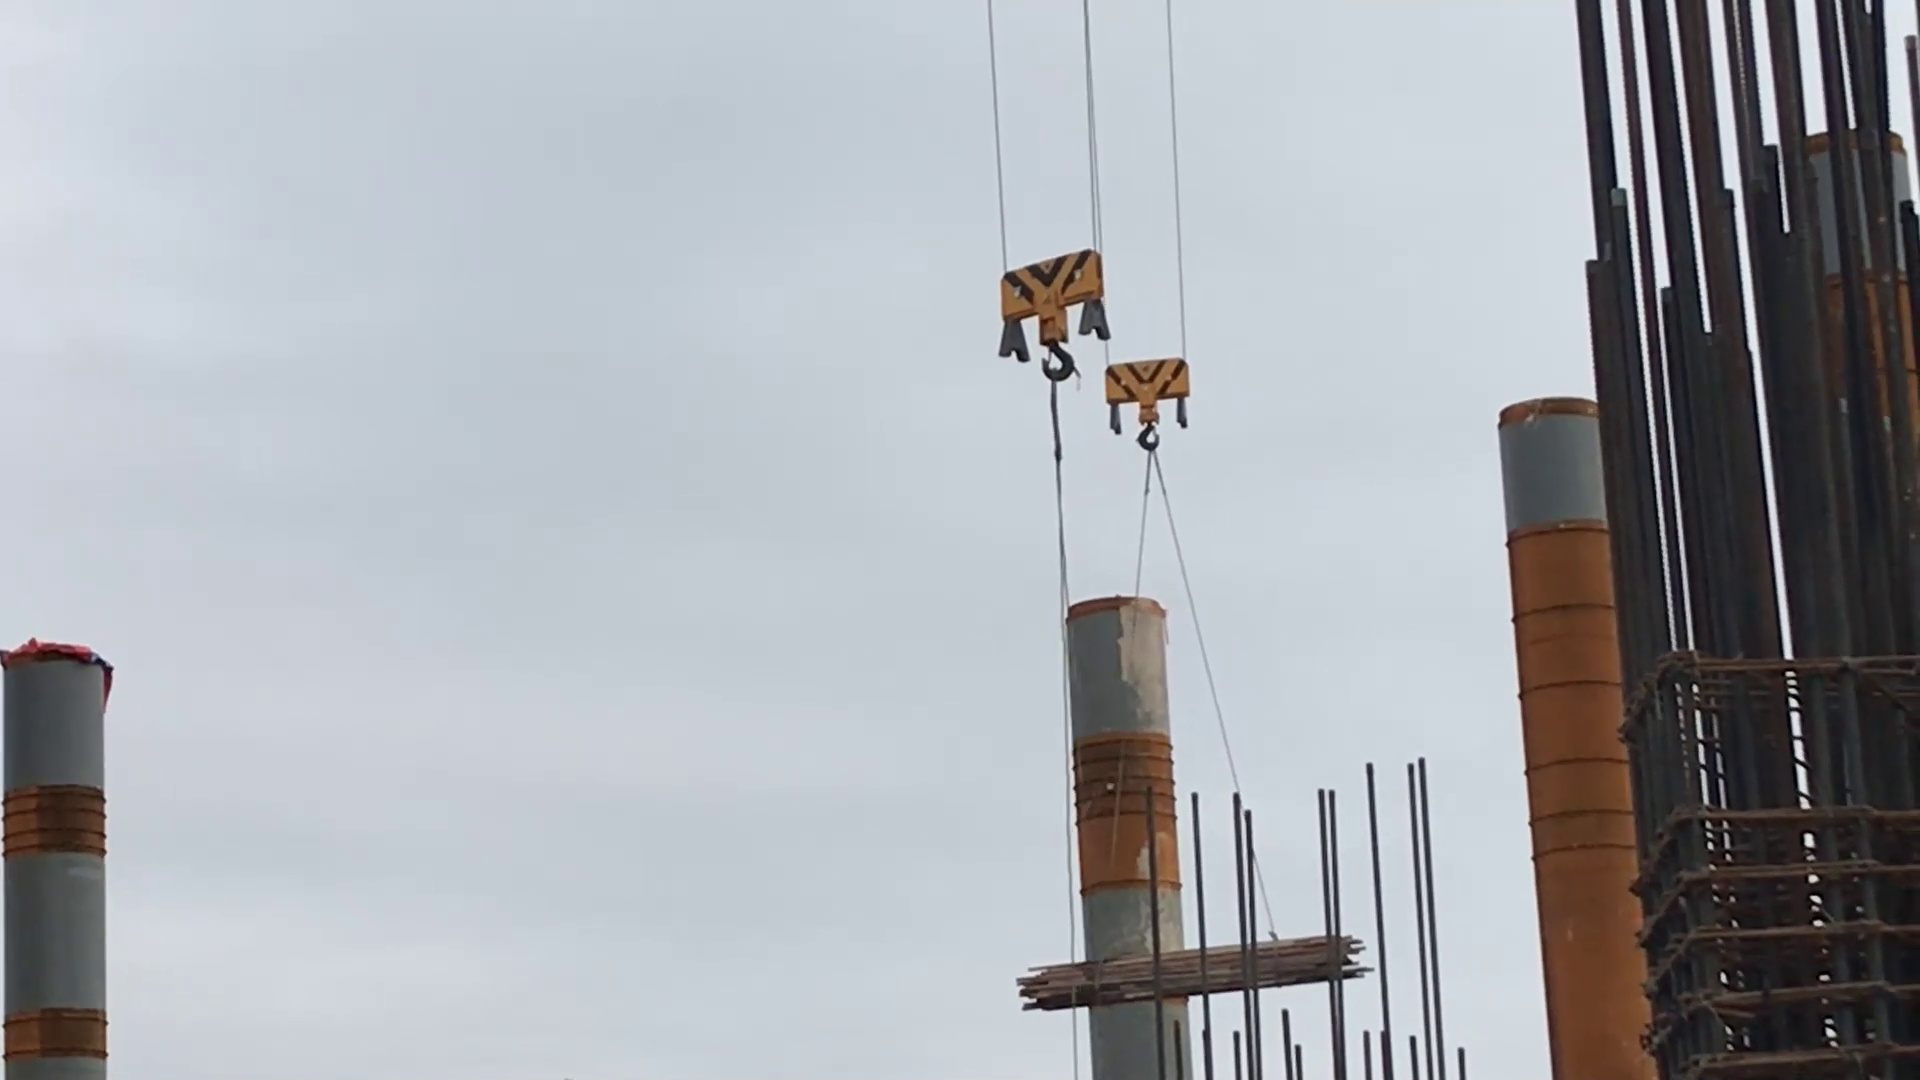hook: (996, 247, 1112, 382), (1100, 348, 1196, 448)
wood: (992, 919, 1378, 1015)
